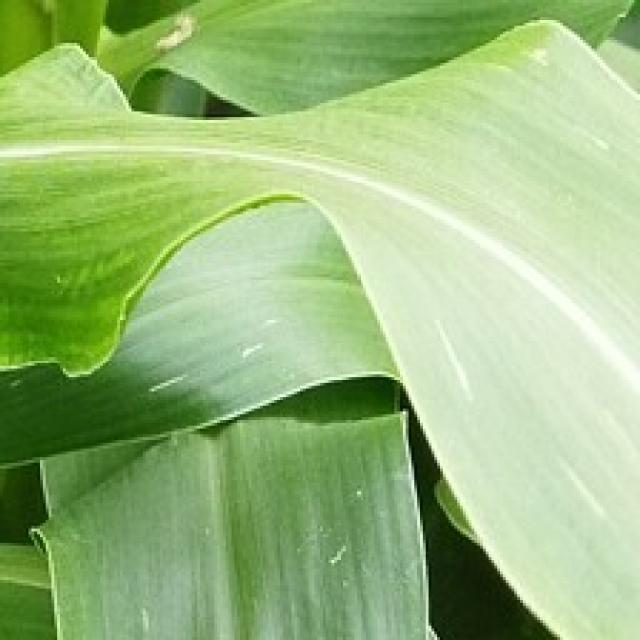Corn: (0, 0, 637, 637), (26, 386, 437, 637), (126, 0, 637, 117)
